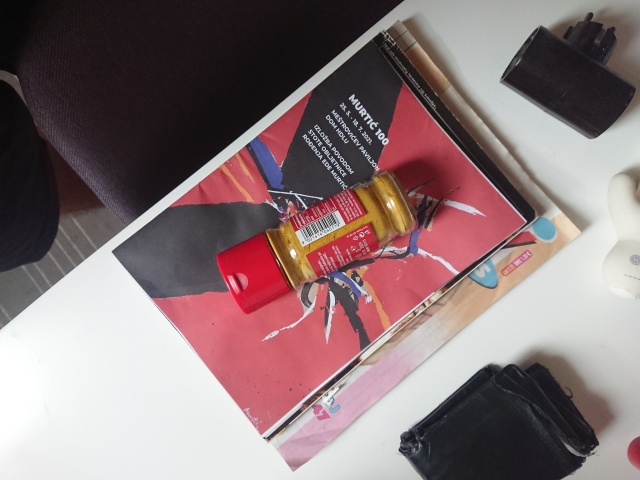Kotanyi Curry Spices Mix 70g: (213, 166, 422, 317)
